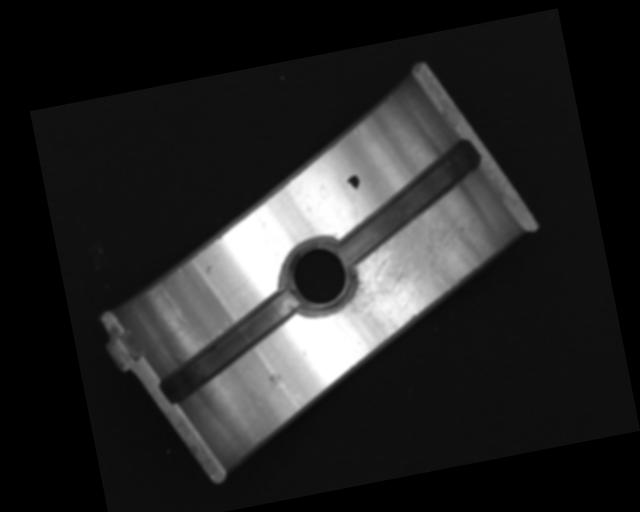blot: (345, 173, 362, 192)
bruise: (266, 370, 285, 390), (203, 264, 215, 275)
gap: (324, 138, 495, 266), (146, 289, 313, 406)
hole: (277, 231, 361, 323)
nick: (154, 279, 187, 329)
scratch: (317, 199, 485, 354)
